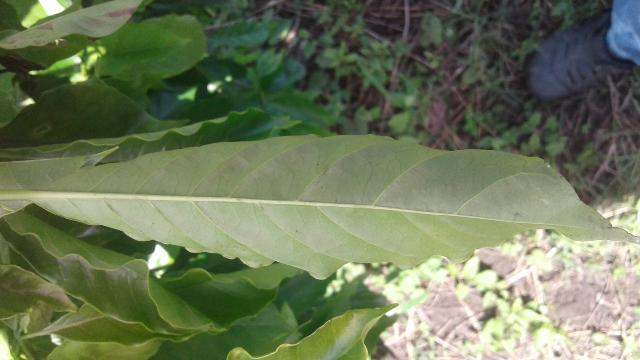healthy: (34, 132, 640, 283)
